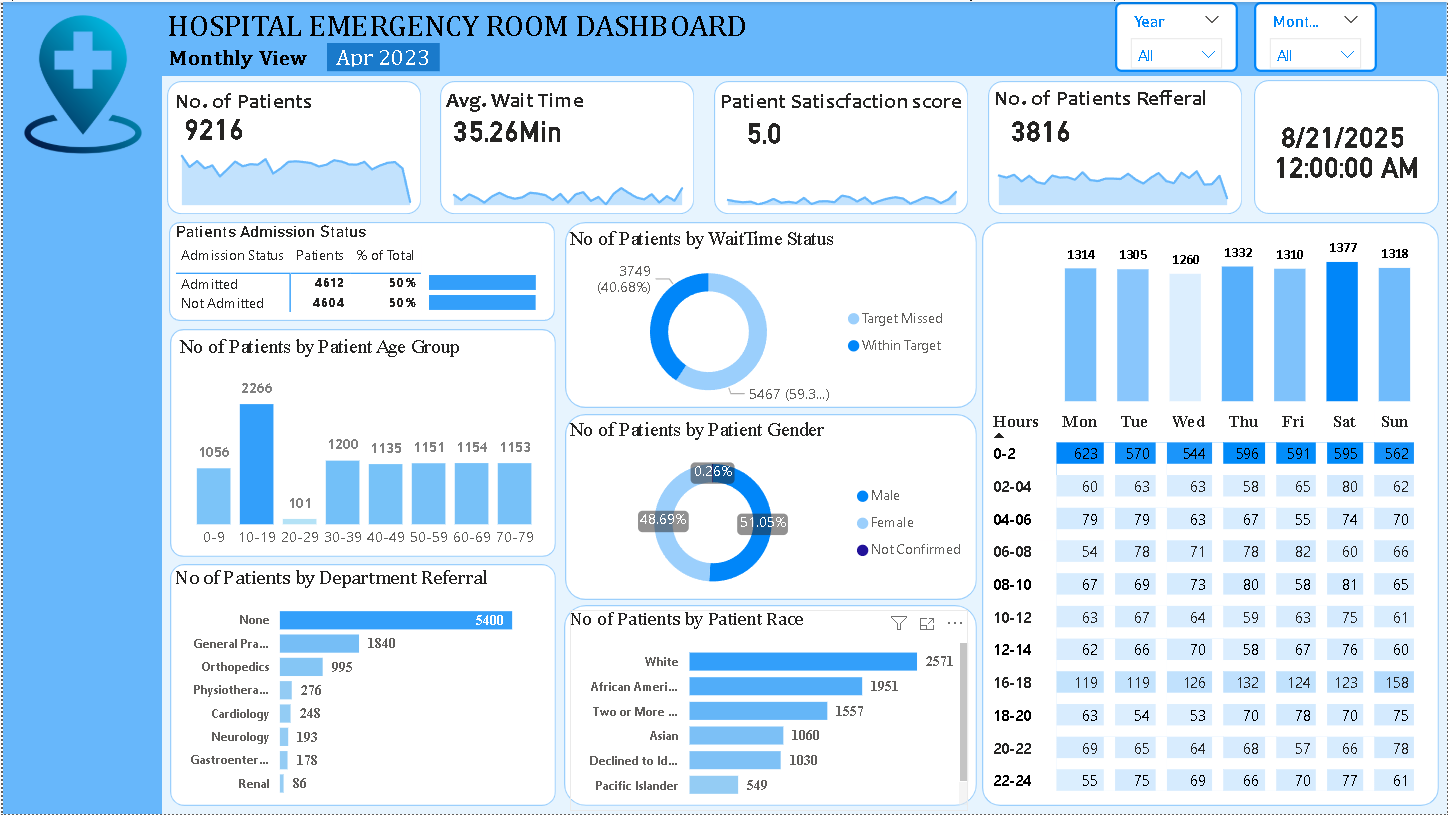

Layout of this report page (visuals, bound fields, positions):
{"tool":"powerbi","page":{"name":"Monthly View","canvas":[1280,720],"ordinal":0},"visuals":[{"type":"shape","box":[0,0,141,720],"z":0},{"type":"shape","box":[145.5,70,225.5,118.2],"z":1000},{"type":"shape","box":[141,0,1139.4,65.6],"z":2000},{"type":"card","fields":{"Values":["Hospital ER_Data.No of Patients"]},"box":[134.5,93.6,104.5,35.5],"z":3000},{"type":"textbox","box":[147.3,70.9,180.9,39.1],"z":4000},{"type":"areaChart","fields":{"Y":["Hospital ER_Data.No of Patients"],"Category":["Date Table.Date.Variation.Date Hierarchy.Day"]},"box":[141.8,124.5,229.1,56.4],"z":5000},{"type":"slicer","fields":{"Values":["Date Table.Month Name"]},"box":[1109.3,0,109.1,62.1],"z":6000},{"type":"card","fields":{"Values":["Min(Date Table.Month & Year)"]},"box":[287.3,36.4,100,25.5],"z":7000},{"type":"textbox","box":[140.9,0,608.2,43.6],"z":8000},{"type":"textbox","box":[141.8,34.5,182.7,39.1],"z":9000},{"type":"shape","box":[387.3,70,225.5,118.2],"z":10000},{"type":"textbox","box":[387.3,70,159.1,34.5],"z":11000},{"type":"card","fields":{"Values":["Hospital ER_Data.Avg Wait Time"]},"box":[387.3,95.5,119.1,35.5],"z":12000},{"type":"areaChart","fields":{"Category":["Date Table.Date.Variation.Date Hierarchy.Day"],"Y":["Hospital ER_Data.Avg Wait Time"]},"box":[383.6,124.5,229.1,56.4],"z":13000},{"type":"areaChart","fields":{"Category":["Date Table.Date.Variation.Date Hierarchy.Day"],"Y":["Hospital ER_Data.avgrage wait time"]},"box":[382.7,124.5,229.1,56.4],"z":14000},{"type":"shape","box":[630,70,225.5,118.2],"z":15000},{"type":"shape","box":[873.6,70,225.5,118.2],"z":16000},{"type":"textbox","box":[630,70.9,233.6,33.6],"z":17000},{"type":"card","fields":{"Values":["Hospital ER_Data.Patient Satisfaction score a"]},"box":[628.2,97.3,93.6,35.5],"z":18000},{"type":"areaChart","fields":{"Category":["Date Table.Date.Variation.Date Hierarchy.Day"],"Y":["Hospital ER_Data.Patient Satisfaction score a"]},"box":[626.4,124.5,229.1,56.4],"z":19000},{"type":"slicer","fields":{"Values":["Date Table.Year"]},"box":[986,0,109.1,62.1],"z":20000},{"type":"card","fields":{"Values":["Hospital ER_Data.No. of Patients Refferal"]},"box":[873.6,95.5,93.6,35.5],"z":21000},{"type":"textbox","box":[873.6,68.2,213.6,39.1],"z":22000},{"type":"areaChart","fields":{"Category":["Date Table.Date.Variation.Date Hierarchy.Day"],"Y":["Hospital ER_Data.No. of Patients Refferal"]},"box":[866.4,124.5,229.1,56.4],"z":23000},{"type":"shape","box":[147.2,195.1,342.3,87.8],"z":24000},{"type":"pivotTable","title":"Patients Admission Status","fields":{"Rows":["Hospital ER_Data.Admission Status"],"Values":["Hospital ER_Data.No of Patients","Divide(Hospital ER_Data.No of Patients, ScopedEval(Hospital ER_Data.No of Patients, []))"]},"box":[148.1,195.1,248.3,87.8],"z":25000},{"type":"barChart","fields":{"Y":["Hospital ER_Data.No of Patients"],"Category":["Hospital ER_Data.Admission Status"]},"box":[377.7,225.2,123.3,57.6],"z":26000},{"type":"shape","box":[148.1,290,342.3,202.2],"z":27000},{"type":"columnChart","fields":{"Category":["Hospital ER_Data.Patient Age Group"],"Y":["Hospital ER_Data.No of Patients"]},"box":[151.6,296.2,337.8,196],"z":28000},{"type":"shape","box":[148.1,498.3,342.3,214.6],"z":29000},{"type":"clusteredBarChart","fields":{"Category":["Hospital ER_Data.Department Referral"],"Y":["Hospital ER_Data.No of Patients"]},"box":[152.5,501.9,329.9,212.8],"z":30000},{"type":"shape","box":[498.3,195.1,365.3,164.9],"z":31000},{"type":"donutChart","fields":{"Category":["Hospital ER_Data.WaitTime Status"],"Y":["Hospital ER_Data.No of Patients"]},"box":[497.4,200.4,350.2,164.9],"z":32000},{"type":"shape","box":[498.3,365.3,365.3,164.9],"z":33000},{"type":"donutChart","fields":{"Y":["Hospital ER_Data.No of Patients"],"Category":["Hospital ER_Data.Patient Gender"]},"box":[497.4,369.8,366.2,164.9],"z":34000},{"type":"shape","box":[497.4,534.7,366.2,178.2],"z":35000},{"type":"clusteredBarChart","fields":{"Y":["Hospital ER_Data.No of Patients"],"Category":["Hospital ER_Data.Patient Race"]},"box":[502.8,539.1,352.9,178.2],"z":36000},{"type":"shape","box":[868.1,195.1,405.2,517.8],"z":37000},{"type":"pivotTable","fields":{"Rows":["Hospital ER_Data.WaitTime Interval"],"Columns":["Date Table.Day Name"],"Values":["Hospital ER_Data.No of Patients"]},"box":[868.1,356.5,405.2,356.5],"z":38000},{"type":"clusteredColumnChart","fields":{"Y":["Hospital ER_Data.No of Patients"],"Category":["Date Table.Week day"]},"box":[931.9,196,325.4,164],"z":39000},{"type":"shape","box":[1109.3,69.2,164,118.8],"z":40000},{"type":"card","fields":{"Values":["Date Table.Today"]},"box":[1118.1,90.4,146.3,84.2],"z":41000},{"type":"image","box":[4.4,3.5,133,139.2],"z":42000},{"type":"pageNavigator","box":[11.5,239.4,117.9,201.3],"z":43000},{"type":"textbox","box":[11.5,205.7,88.7,32.8],"z":44000},{"type":"textbox","box":[0,610,145.4,107.3],"z":45000},{"type":"image","box":[313.9,73.6,45.2,43.4],"z":46000},{"type":"image","box":[559.5,71.8,52.3,52.3],"z":47000},{"type":"image","box":[794.5,86.9,60.3,65.6],"z":48000},{"type":"image","box":[1049,100.2,44.3,39],"z":49000},{"type":"image","box":[1164.2,67.4,44.3,48.8],"z":50000}]}

Visuals, with their boxes in screenshot pixels (x1, y1, x2, y2), scaled from the page's 1280x720 canvas onto the 1448x815 screenshot:
shape: pyautogui.locateOnScreen(0, 0, 160, 814)
shape: pyautogui.locateOnScreen(165, 79, 420, 213)
shape: pyautogui.locateOnScreen(160, 0, 1447, 74)
card - Hospital ER_Data.No of Patients: pyautogui.locateOnScreen(152, 106, 270, 146)
textbox: pyautogui.locateOnScreen(167, 80, 371, 125)
areaChart - Hospital ER_Data.No of Patients x Date Table.Date.Variation.Date Hierarchy.Day: pyautogui.locateOnScreen(160, 141, 420, 205)
slicer - Date Table.Month Name: pyautogui.locateOnScreen(1255, 0, 1378, 70)
card - Min(Date Table.Month & Year): pyautogui.locateOnScreen(325, 41, 438, 70)
textbox: pyautogui.locateOnScreen(159, 0, 847, 49)
textbox: pyautogui.locateOnScreen(160, 39, 367, 83)
shape: pyautogui.locateOnScreen(438, 79, 693, 213)
textbox: pyautogui.locateOnScreen(438, 79, 618, 118)
card - Hospital ER_Data.Avg Wait Time: pyautogui.locateOnScreen(438, 108, 573, 148)
areaChart - Date Table.Date.Variation.Date Hierarchy.Day x Hospital ER_Data.Avg Wait Time: pyautogui.locateOnScreen(434, 141, 693, 205)
areaChart - Date Table.Date.Variation.Date Hierarchy.Day x Hospital ER_Data.avgrage wait time: pyautogui.locateOnScreen(433, 141, 692, 205)
shape: pyautogui.locateOnScreen(713, 79, 968, 213)
shape: pyautogui.locateOnScreen(988, 79, 1243, 213)
textbox: pyautogui.locateOnScreen(713, 80, 977, 118)
card - Hospital ER_Data.Patient Satisfaction score a: pyautogui.locateOnScreen(711, 110, 817, 150)
areaChart - Date Table.Date.Variation.Date Hierarchy.Day x Hospital ER_Data.Patient Satisfaction score a: pyautogui.locateOnScreen(709, 141, 968, 205)
slicer - Date Table.Year: pyautogui.locateOnScreen(1115, 0, 1239, 70)
card - Hospital ER_Data.No. of Patients Refferal: pyautogui.locateOnScreen(988, 108, 1094, 148)
textbox: pyautogui.locateOnScreen(988, 77, 1230, 121)
areaChart - Date Table.Date.Variation.Date Hierarchy.Day x Hospital ER_Data.No. of Patients Refferal: pyautogui.locateOnScreen(980, 141, 1239, 205)
shape: pyautogui.locateOnScreen(167, 221, 554, 320)
"Patients Admission Status" pivotTable: pyautogui.locateOnScreen(168, 221, 448, 320)
barChart - Hospital ER_Data.No of Patients x Hospital ER_Data.Admission Status: pyautogui.locateOnScreen(427, 255, 567, 320)
shape: pyautogui.locateOnScreen(168, 328, 555, 557)
columnChart - Hospital ER_Data.Patient Age Group x Hospital ER_Data.No of Patients: pyautogui.locateOnScreen(171, 335, 554, 557)
shape: pyautogui.locateOnScreen(168, 564, 555, 807)
clusteredBarChart - Hospital ER_Data.Department Referral x Hospital ER_Data.No of Patients: pyautogui.locateOnScreen(173, 568, 546, 809)
shape: pyautogui.locateOnScreen(564, 221, 977, 408)
donutChart - Hospital ER_Data.WaitTime Status x Hospital ER_Data.No of Patients: pyautogui.locateOnScreen(563, 227, 959, 413)
shape: pyautogui.locateOnScreen(564, 413, 977, 600)
donutChart - Hospital ER_Data.No of Patients x Hospital ER_Data.Patient Gender: pyautogui.locateOnScreen(563, 419, 977, 605)
shape: pyautogui.locateOnScreen(563, 605, 977, 807)
clusteredBarChart - Hospital ER_Data.No of Patients x Hospital ER_Data.Patient Race: pyautogui.locateOnScreen(569, 610, 968, 812)
shape: pyautogui.locateOnScreen(982, 221, 1440, 807)
pivotTable - Hospital ER_Data.WaitTime Interval x Date Table.Day Name: pyautogui.locateOnScreen(982, 404, 1440, 807)
clusteredColumnChart - Hospital ER_Data.No of Patients x Date Table.Week day: pyautogui.locateOnScreen(1054, 222, 1422, 408)
shape: pyautogui.locateOnScreen(1255, 78, 1440, 213)
card - Date Table.Today: pyautogui.locateOnScreen(1265, 102, 1430, 198)
image: pyautogui.locateOnScreen(5, 4, 155, 162)
pageNavigator: pyautogui.locateOnScreen(13, 271, 146, 499)
textbox: pyautogui.locateOnScreen(13, 233, 113, 270)
textbox: pyautogui.locateOnScreen(0, 690, 164, 812)
image: pyautogui.locateOnScreen(355, 83, 406, 132)
image: pyautogui.locateOnScreen(633, 81, 692, 140)
image: pyautogui.locateOnScreen(899, 98, 967, 173)
image: pyautogui.locateOnScreen(1187, 113, 1237, 158)
image: pyautogui.locateOnScreen(1317, 76, 1367, 132)
